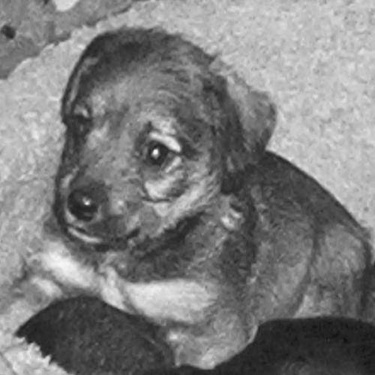dog: (2, 13, 370, 369)
